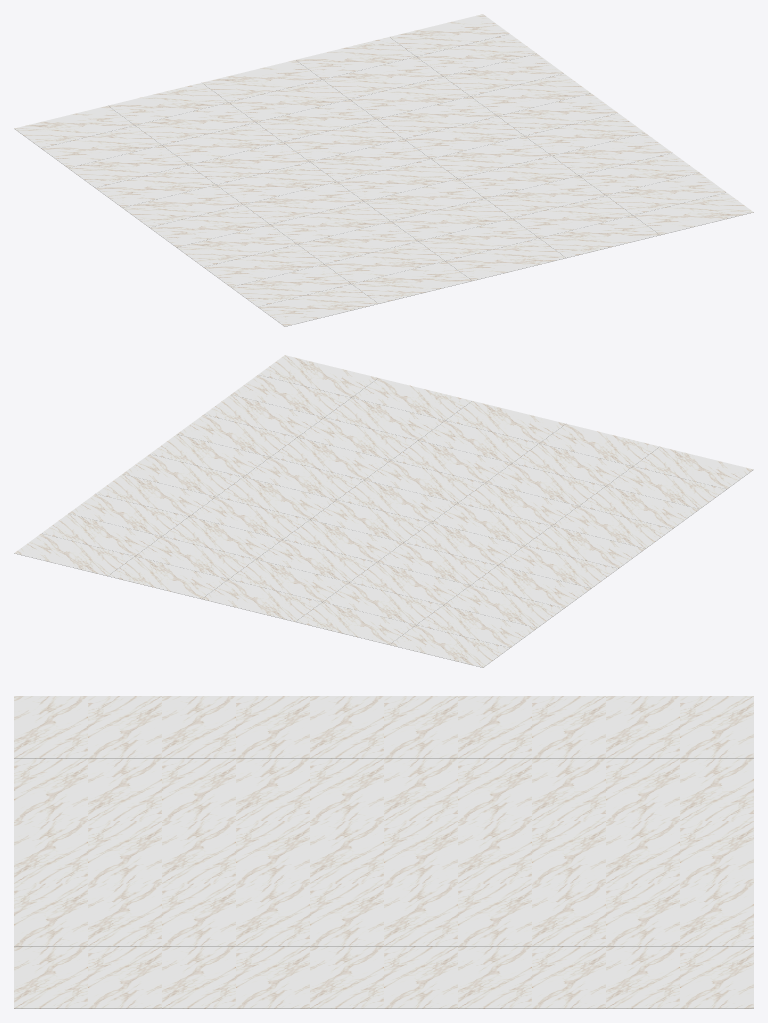
The model's file is artico-80x160.glb.
3 views of the same model, one above another, from view 1: azimuth 30°, elevation 25°; view 2: azimuth 150°, elevation 25°; view 3: azimuth 270°, elevation 25° (orthographic). The views are drawn at different scales.
Visible parts, largest first — view 1: Artico; view 2: Artico; view 3: Artico.
Boxes of the visible parts, bbox=[...] form: Artico: bbox=[14, 14, 753, 326]; Artico: bbox=[14, 355, 753, 667]; Artico: bbox=[14, 696, 753, 1008].
Bounding box in the file's own units: 8 × 0.003 × 8.
2 materials, 1 textured.
